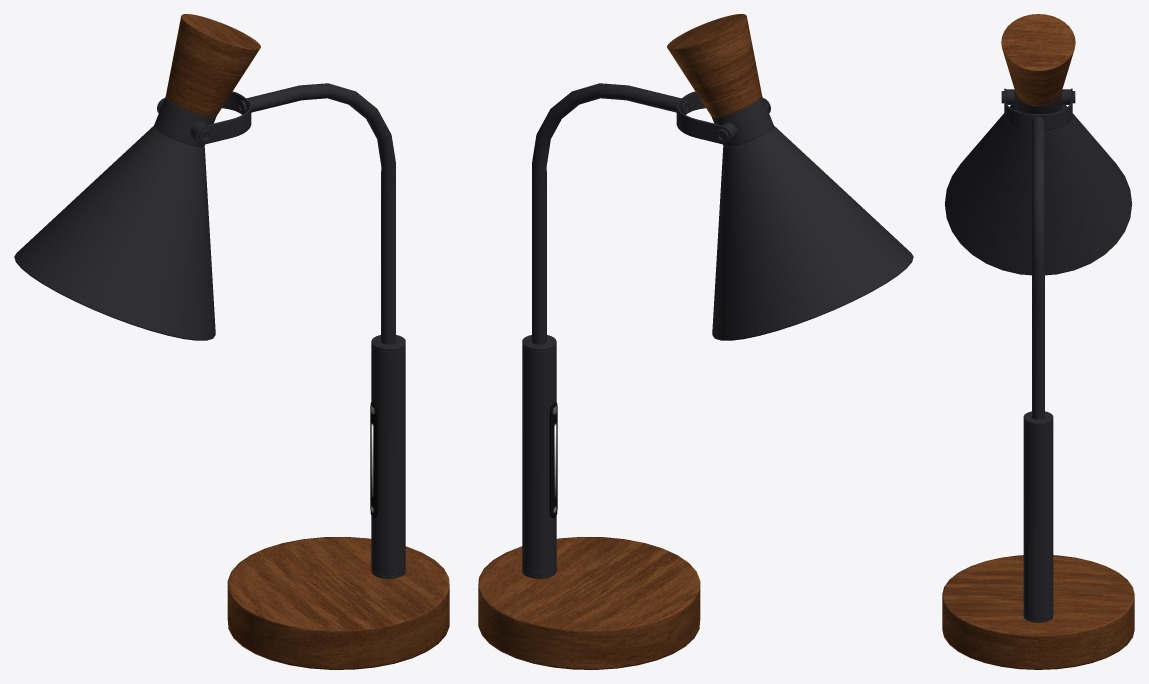
File: luminaria.glb
3 views of the same model, side by side, from view 1: azimuth 30°, elevation 25°; view 2: azimuth 150°, elevation 25°; view 3: azimuth 270°, elevation 25° (orthographic). The views are drawn at different scales.
Visible parts, largest first — view 1: body, lamp; view 2: body, lamp; view 3: body, lamp.
Part boxes in pixels (x1=…): body: x1=157, y1=83, x2=449, y2=669; lamp: x1=14, y1=14, x2=260, y2=340; body: x1=478, y1=83, x2=770, y2=669; lamp: x1=667, y1=14, x2=913, y2=340; body: x1=942, y1=88, x2=1134, y2=669; lamp: x1=945, y1=14, x2=1131, y2=275.
Bounding box in the file's own units: 0.3408 × 0.5117 × 0.162.
Materials: 1 (1 with a texture image).
